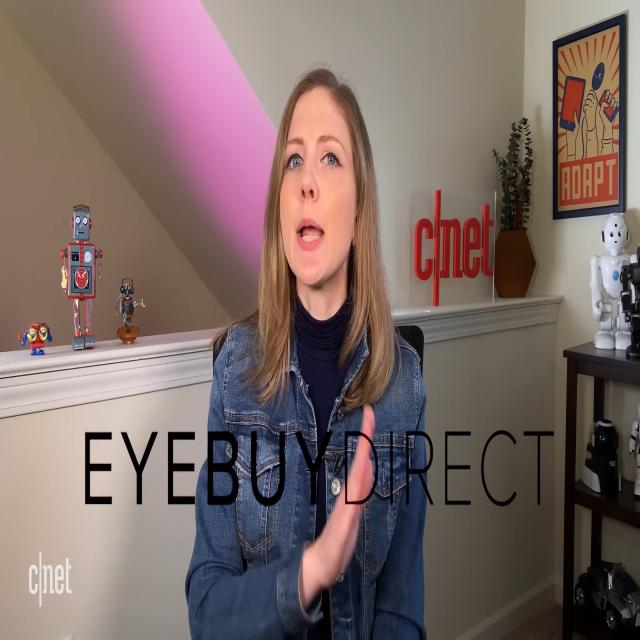dress: (183, 296, 431, 640)
